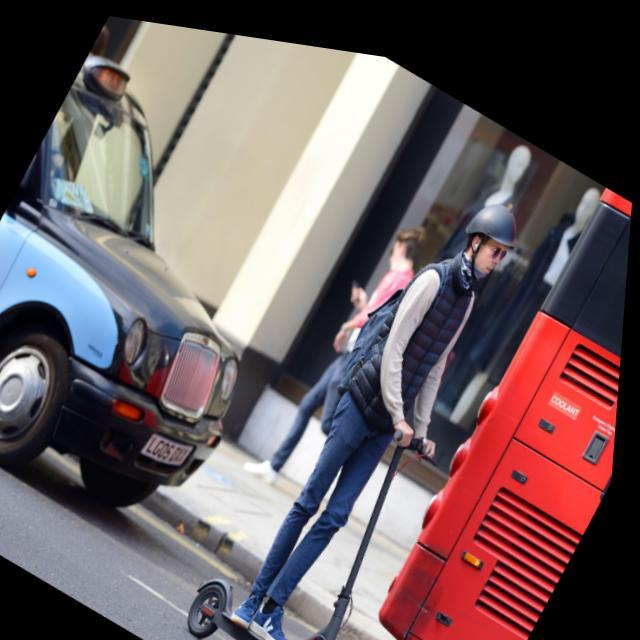Helmet: (454, 192, 520, 280)
